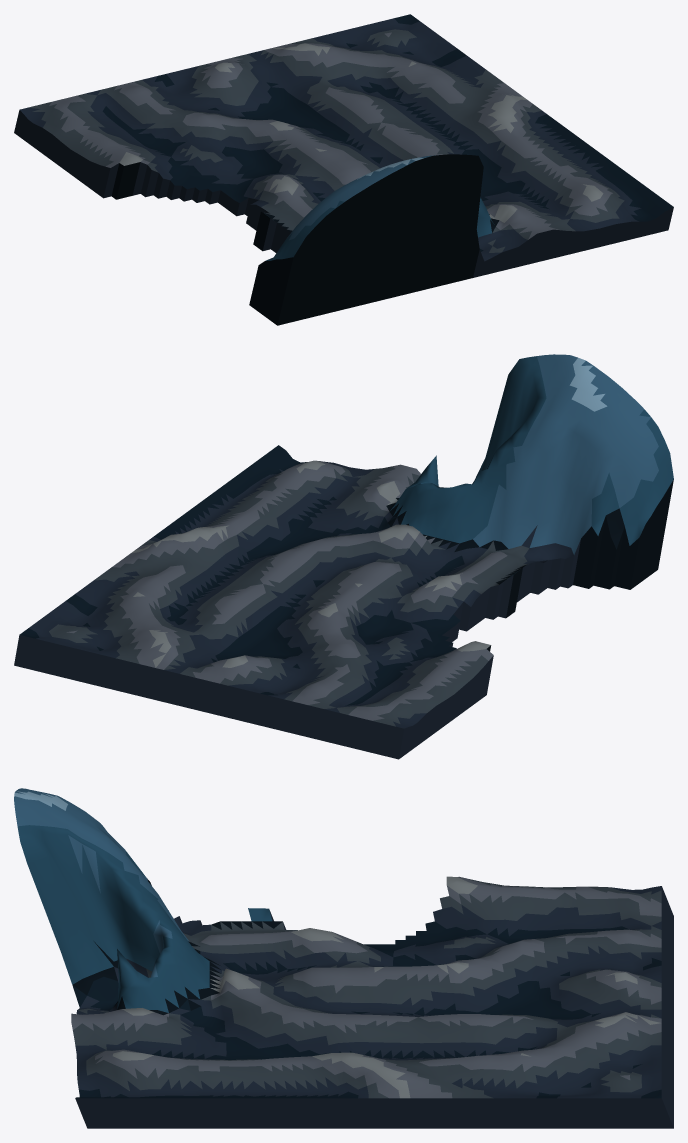
File: gyges_lurker_tr.glb
The picture shows the model from 3 angles, top to bottom: view 1: azimuth 30°, elevation 25°; view 2: azimuth 150°, elevation 25°; view 3: azimuth 270°, elevation 25°; orthographic projection. The views are drawn at different scales.
Visible parts, largest first — view 1: gyges_lurker_tr; view 2: gyges_lurker_tr; view 3: gyges_lurker_tr.
Boxes of the visible parts, x1,y1,x2,y2 form: gyges_lurker_tr: (14, 14, 673, 325); gyges_lurker_tr: (14, 354, 673, 759); gyges_lurker_tr: (14, 788, 673, 1128).
Size of the model in its own units: 24 by 9.63 by 31.5.
